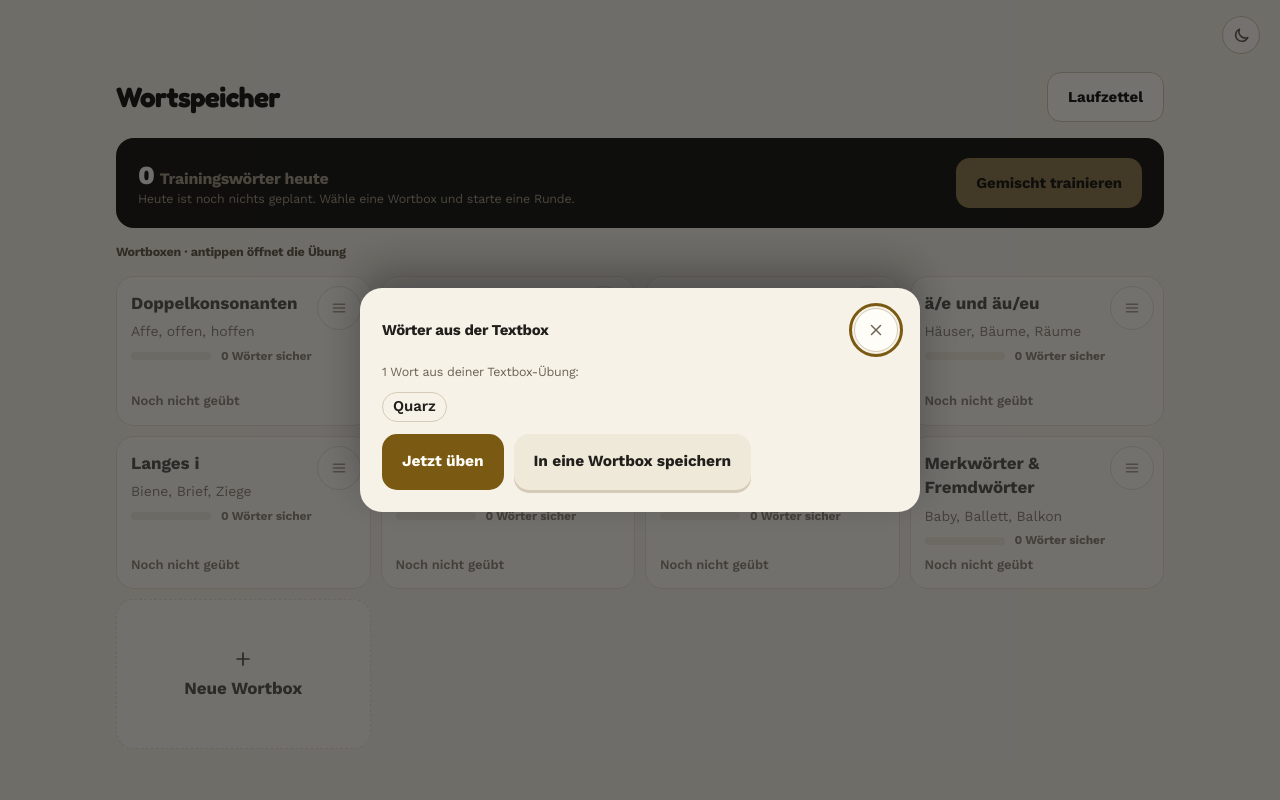
Test case: Wortspeicher ↔ Textbox › zeigt am Ende „Mit einem Text weiterüben“, wenn die Textbox sichtbar ist
Click the button "Jetzt üben" at (443, 462), box [382,434,504,490]
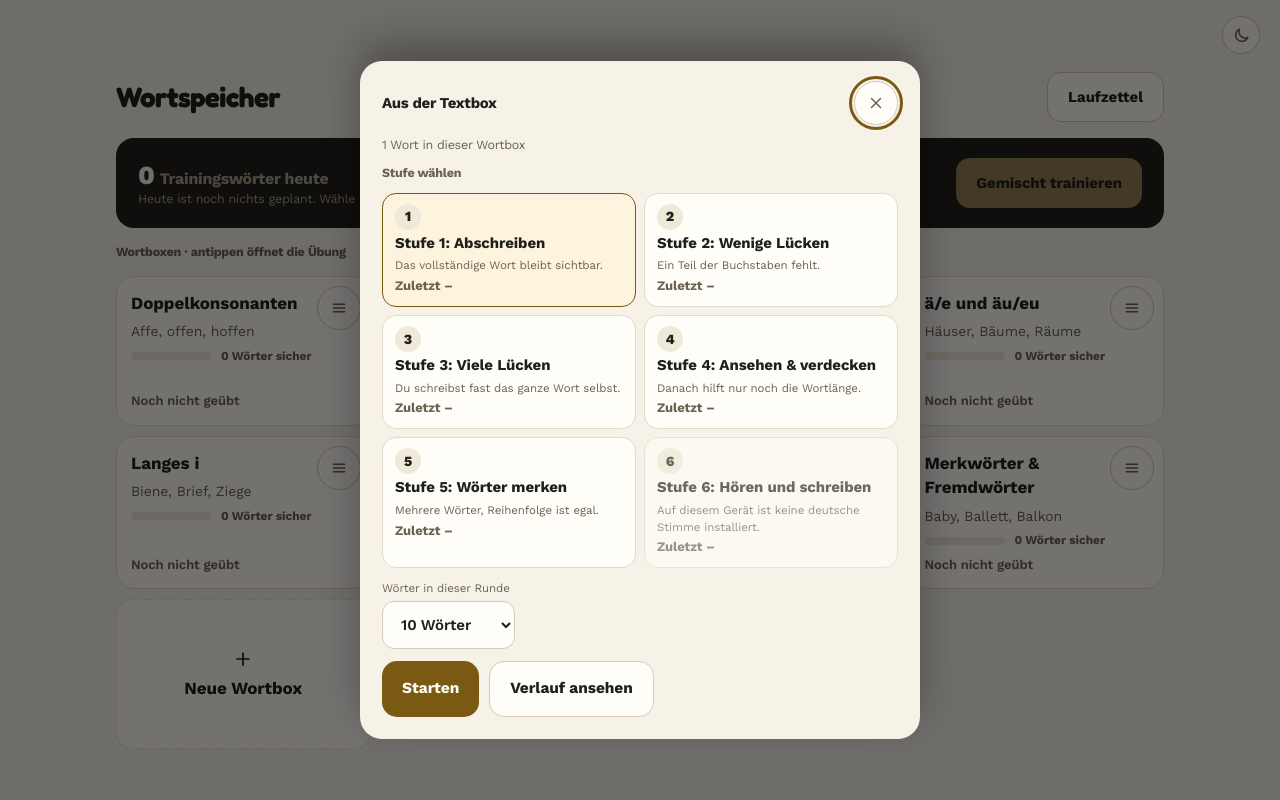
Click the button "Starten" at (431, 689), box [382,661,479,717]
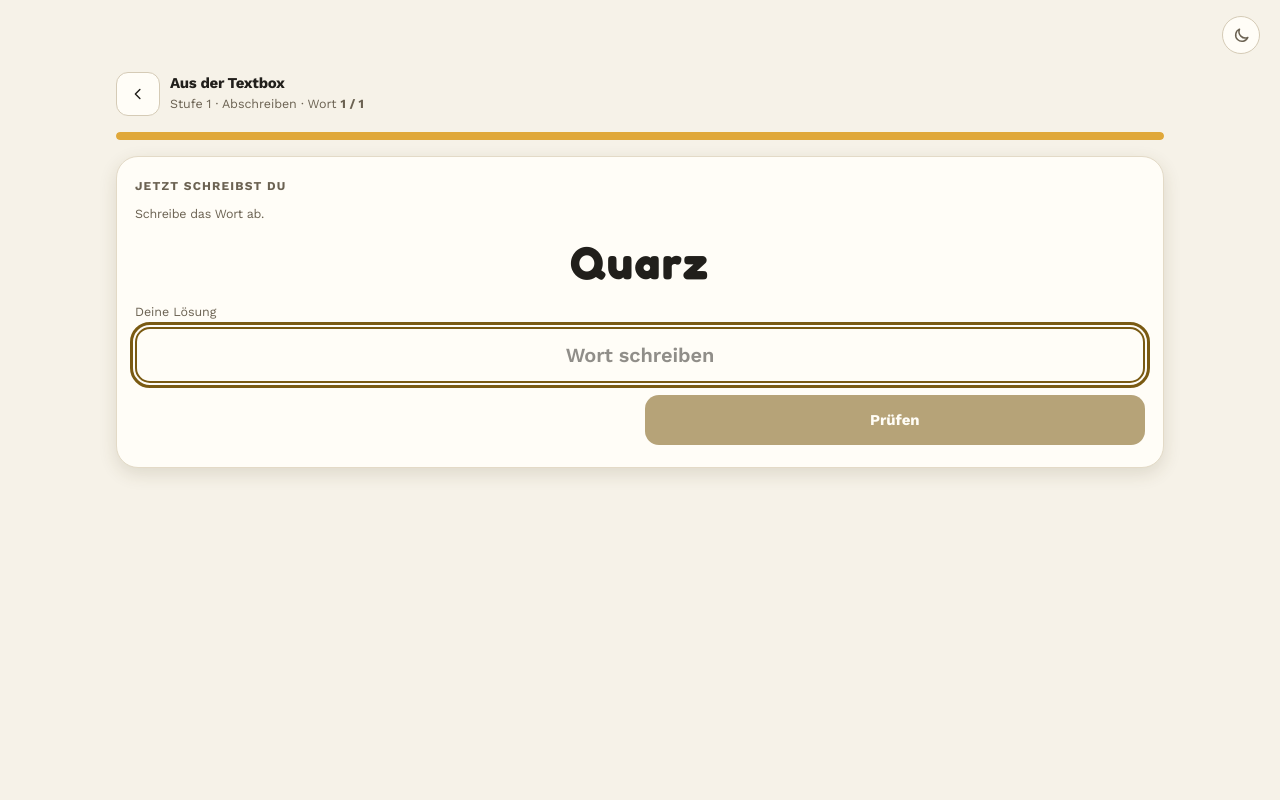
Type "Quarz" into the field labelled "Deine Lösung" at (640, 355), box [135,327,1145,383]
Then press Enter
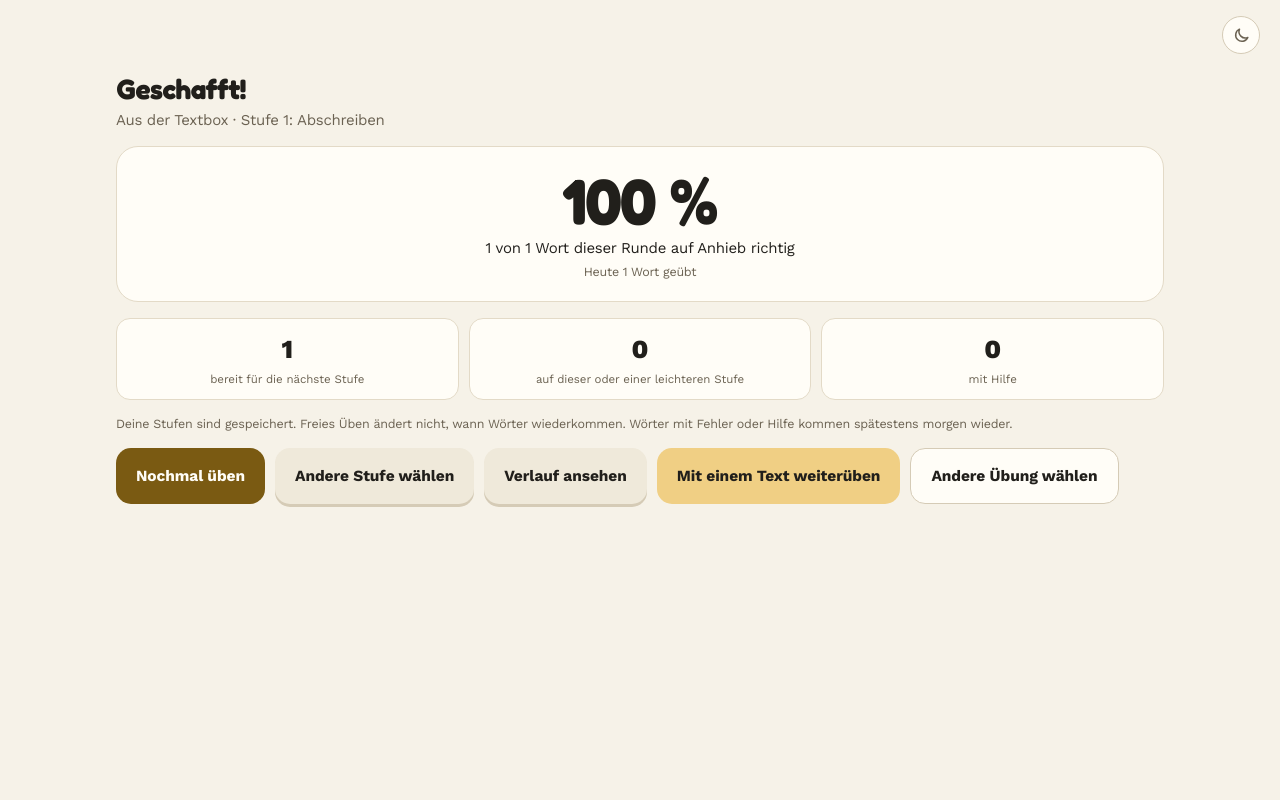
Expected: the heading "Geschafft!" is shown, [116,72,246,106]
